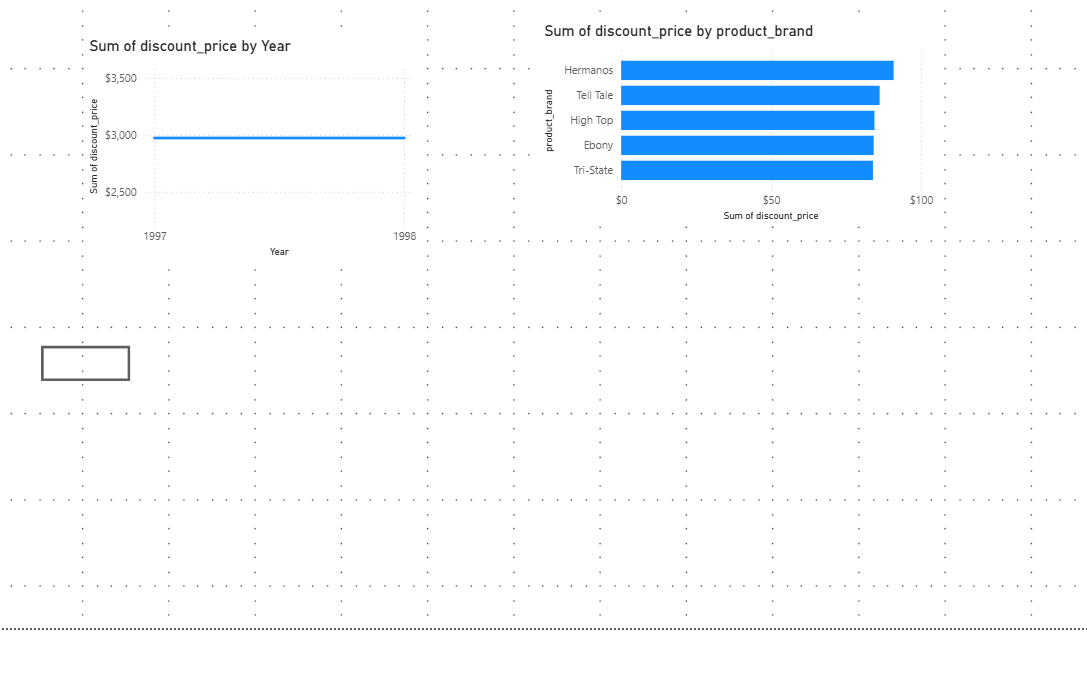

This screenshot's page, from the dashboard's own definition file:
{"tool":"powerbi","page":{"name":"data exploration","canvas":[1280,720],"ordinal":3},"visuals":[{"type":"lineChart","fields":{"Category":["Calendar.Year"],"Y":["Sum(Products.discount_price)"]},"box":[99.4,61.7,373.7,250.3],"z":0},{"type":"clusteredBarChart","fields":{"Category":["Products.product_brand"],"Y":["Sum(Products.discount_price)"]},"box":[605.2,44.5,442.4,226.8],"z":1000},{"type":"actionButton","box":[49.7,404.6,99.4,39.4],"z":2000}]}

Visuals, with their boxes on the page's 1280x720 design canvas (x1, y1, x2, y2). These are canvas units, not pixel positions in the 1087x692 screenshot, which may show the page scaled, cropped or inside an application window:
lineChart - Calendar.Year x Sum(Products.discount_price): <bbox>99, 62, 473, 312</bbox>
clusteredBarChart - Products.product_brand x Sum(Products.discount_price): <bbox>605, 44, 1048, 271</bbox>
actionButton: <bbox>50, 405, 149, 444</bbox>
